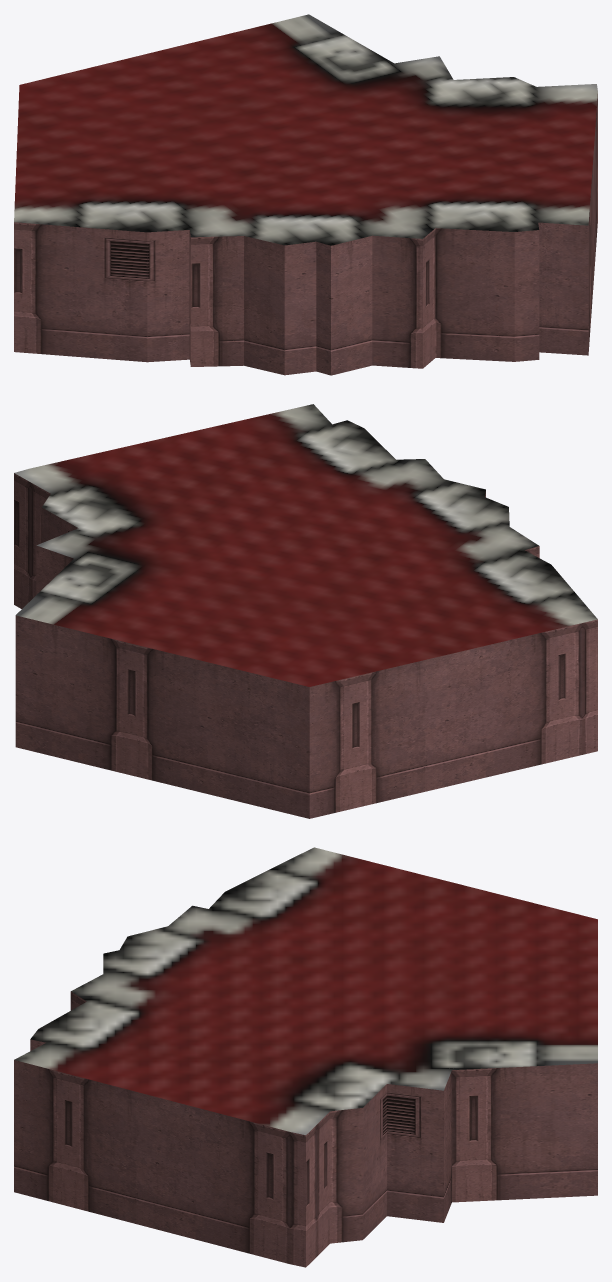
Rendered from hardened_roof37.glb.
3 renders of one model, top to bottom at view 1: azimuth 30°, elevation 25°; view 2: azimuth 150°, elevation 25°; view 3: azimuth 270°, elevation 25°, orthographic.
Visible parts, largest first — view 1: buildings/saxarba/hard/hardened_roof37; view 2: buildings/saxarba/hard/hardened_roof37; view 3: buildings/saxarba/hard/hardened_roof37.
Boxes of the visible parts, x1,y1,x2,y2 form: buildings/saxarba/hard/hardened_roof37: (14, 14, 597, 375); buildings/saxarba/hard/hardened_roof37: (14, 404, 597, 818); buildings/saxarba/hard/hardened_roof37: (14, 847, 597, 1267).
Bounding box in the file's own units: 84 × 18 × 72.
